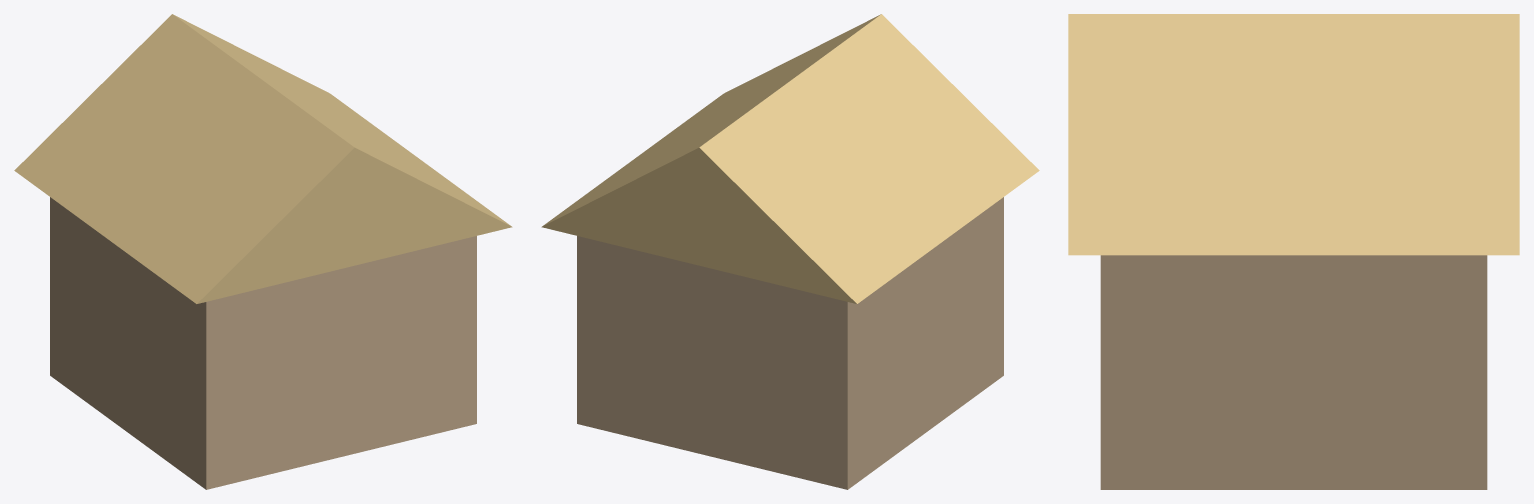
File: shed.glb
The picture shows the model from 3 angles, left to right: view 1: azimuth 30°, elevation 25°; view 2: azimuth 150°, elevation 25°; view 3: azimuth 270°, elevation 25°; orthographic projection. The views are drawn at different scales.
Visible parts, largest first — view 1: shed_wood, shed_roof; view 2: shed_wood, shed_roof; view 3: shed_roof, shed_wood.
Part boxes in pixels (x1,y1,x2,y2): shed_wood: (50, 197, 476, 489); shed_roof: (14, 14, 512, 303); shed_wood: (577, 197, 1003, 489); shed_roof: (541, 14, 1039, 303); shed_roof: (1068, 14, 1519, 255); shed_wood: (1100, 255, 1487, 489).
Bounding box in the file's own units: 0.9333 × 0.9 × 0.9333.
